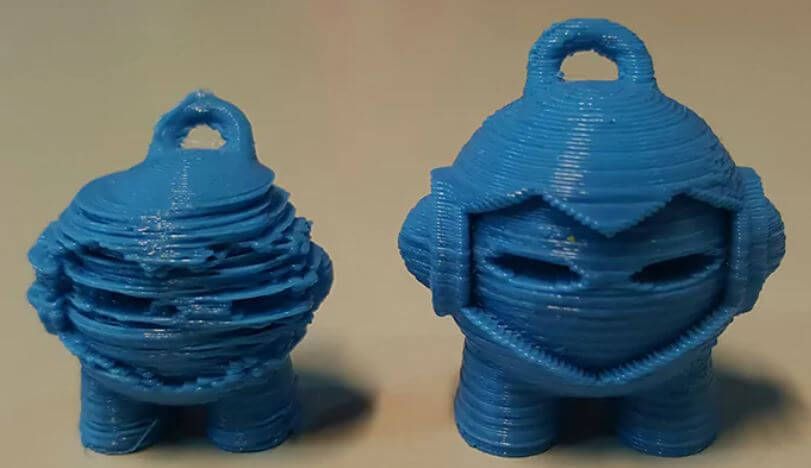blob: (121, 232, 238, 280), (26, 218, 98, 288), (272, 220, 322, 288), (191, 355, 284, 385), (86, 347, 141, 382)
